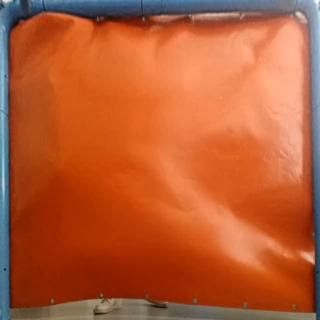Hit-hRxx: (52, 163, 66, 176)
